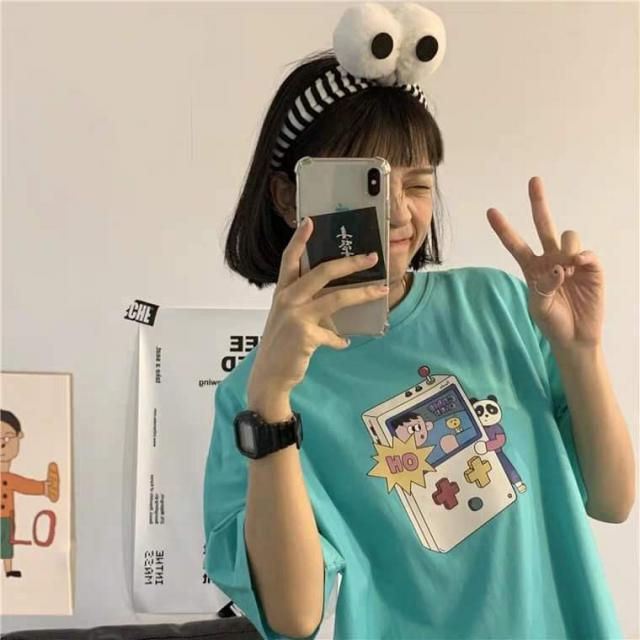Shirt: (204, 253, 620, 640)
